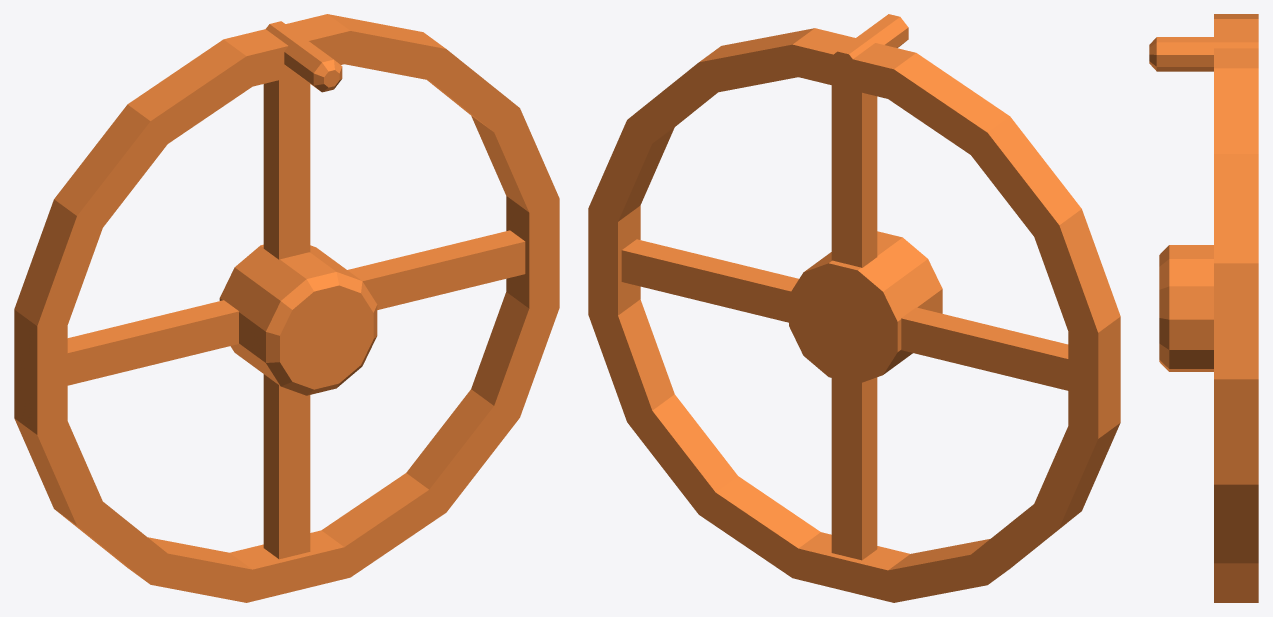
Rendered from valve_wheel_wheel.glb.
The picture shows the model from 3 angles, left to right: view 1: azimuth 30°, elevation 25°; view 2: azimuth 150°, elevation 25°; view 3: azimuth 270°, elevation 25°; orthographic projection. The views are drawn at different scales.
Parts seen in each view (by area): view 1: ValveWheelWheel; view 2: ValveWheelWheel; view 3: ValveWheelWheel.
Boxes of the visible parts, bbox=[...] form: ValveWheelWheel: bbox=[14, 14, 559, 602]; ValveWheelWheel: bbox=[588, 14, 1120, 602]; ValveWheelWheel: bbox=[1149, 14, 1258, 602].
Size of the model in its own units: 0.1177 by 0.1186 by 0.022.
